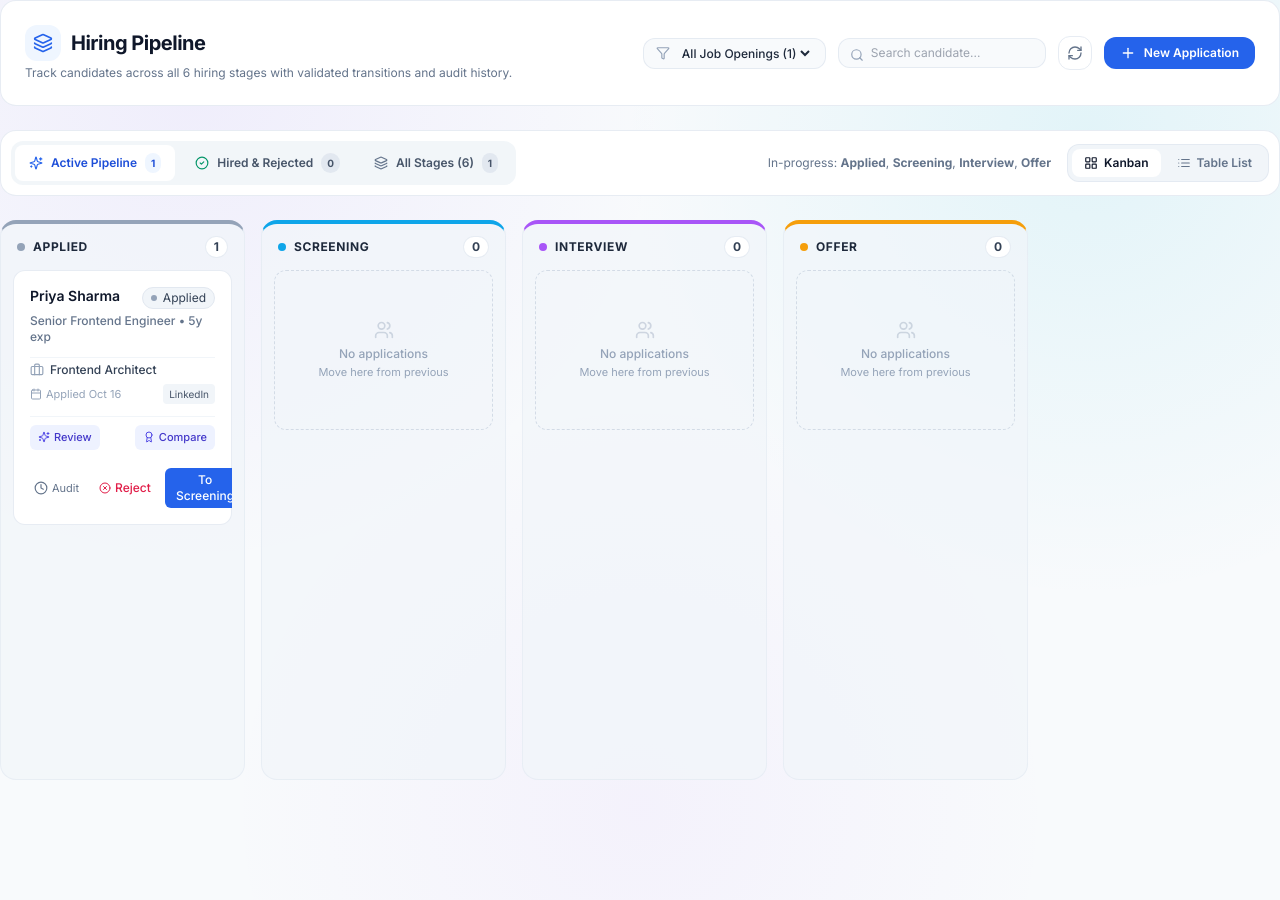
Test: PipelineView Component — Phase 5 UI Verification › 1. Loads pipeline and displays populated stage columns
Expected: the heading "Priya Sharma" is shown, [30, 287, 120, 304]
Expected: the text "Senior Frontend Engineer • 5y exp" is shown, [30, 313, 215, 345]
Note: Verify switching to Hired & Rejected tab displays terminal stages
Click the tab "Hired & Rejected 0". click: [268, 163]
box: [181, 145, 354, 181]
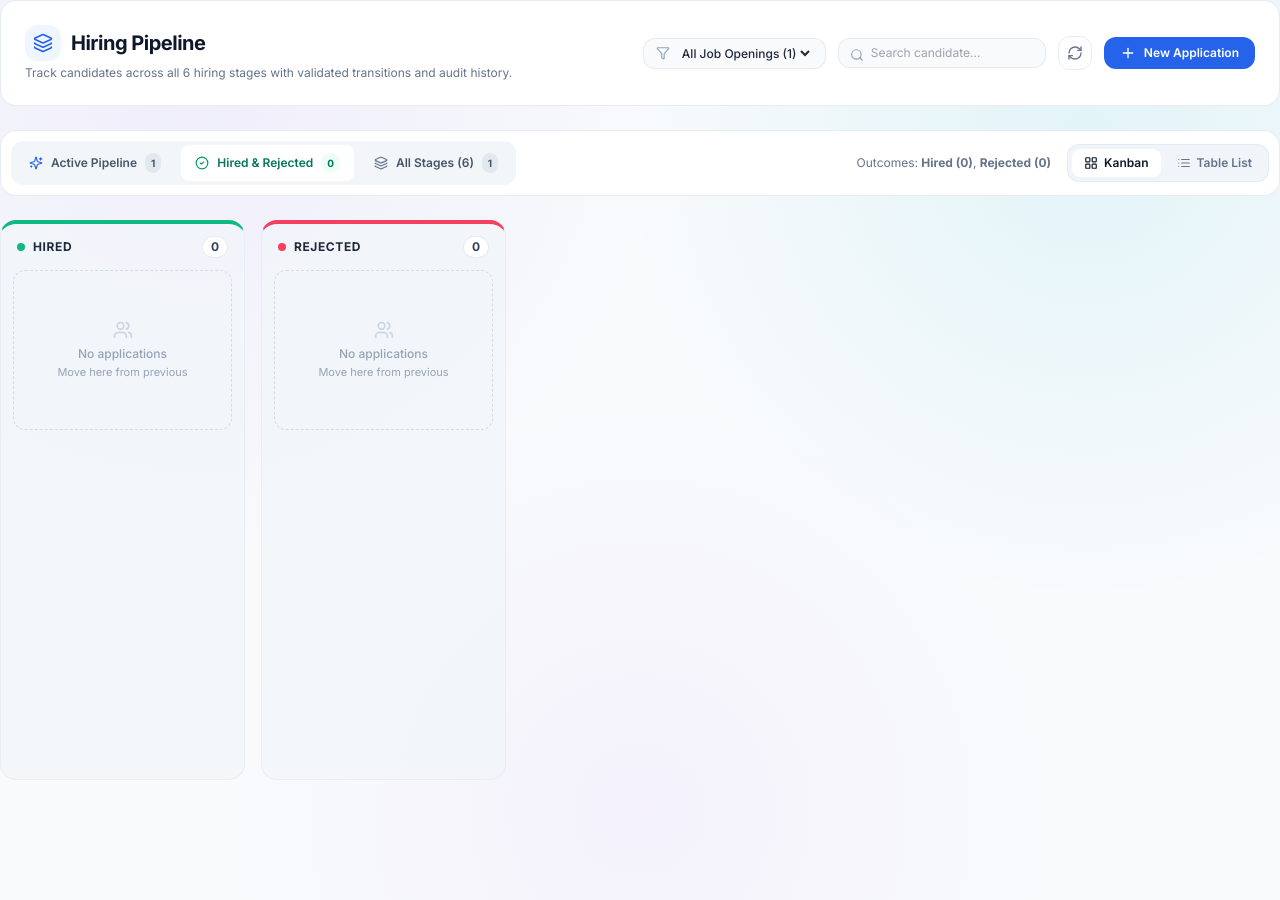
Expected: the element with test id "stage-column-hired" is shown, [0, 220, 245, 780]
Expected: the element with test id "stage-column-rejected" is shown, [261, 220, 506, 780]
